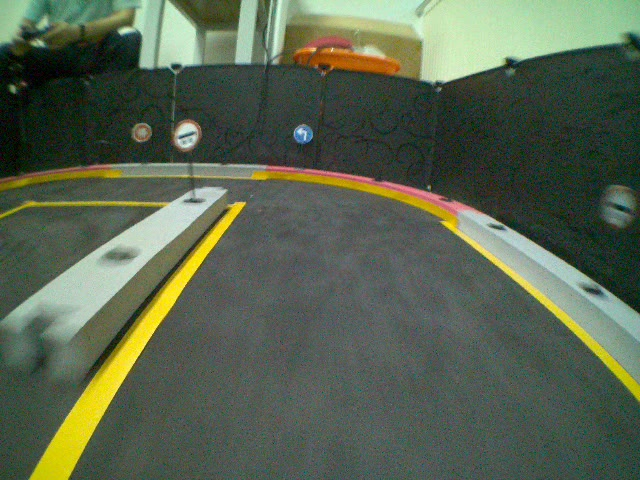Check: (171, 116, 201, 152)
Stop: (131, 121, 152, 143)
turn: (291, 123, 314, 145)
